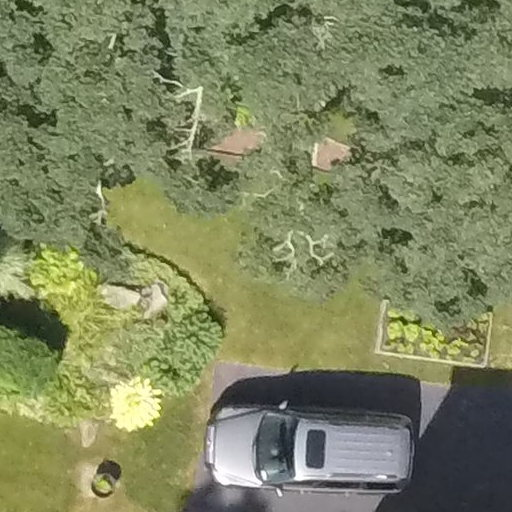car: (199, 401, 428, 506)
container: (86, 469, 122, 503)
flower bed: (362, 290, 499, 368)
flower pot: (82, 472, 127, 504)
